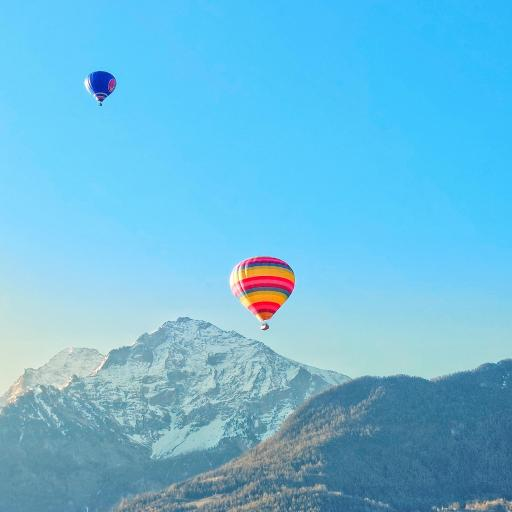hot air ballon: (230, 256, 295, 331), (84, 71, 117, 107)
